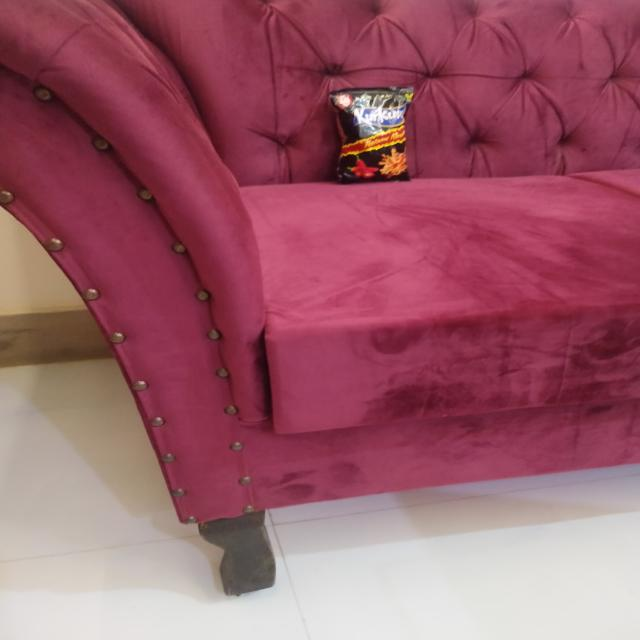Plastic: (330, 78, 420, 188)
